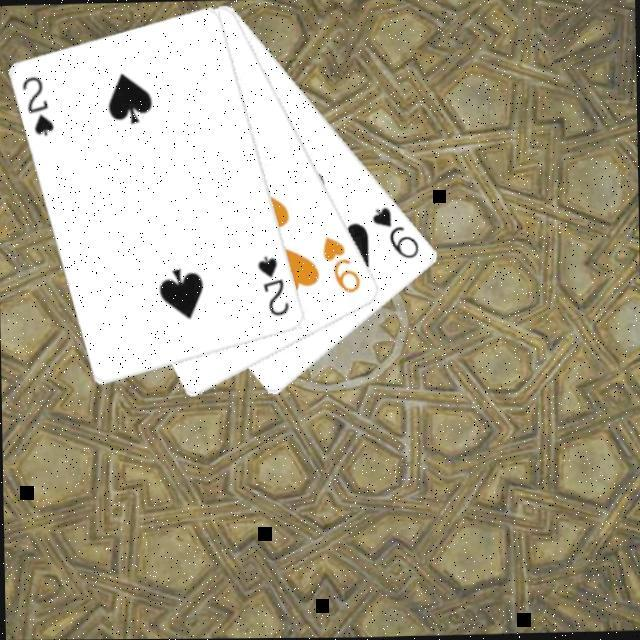2S: (253, 251, 292, 320), (18, 70, 57, 139)
9H: (318, 231, 363, 296)
9S: (367, 201, 422, 262)
